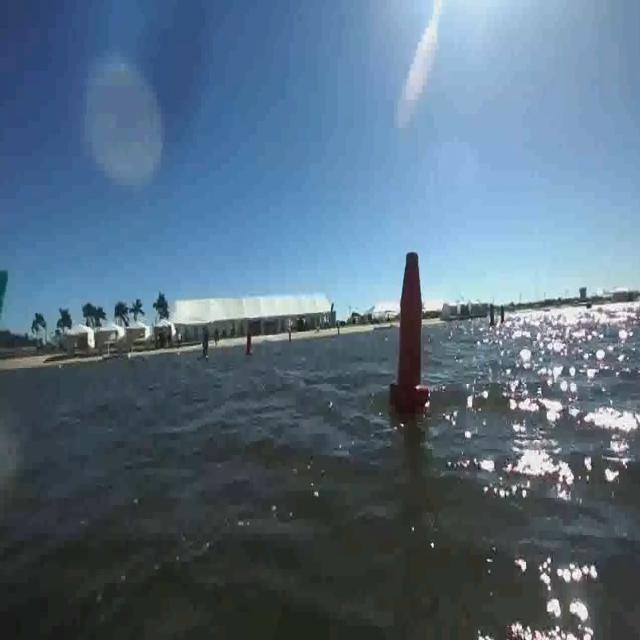red-column-buoy: (392, 246, 432, 412)
